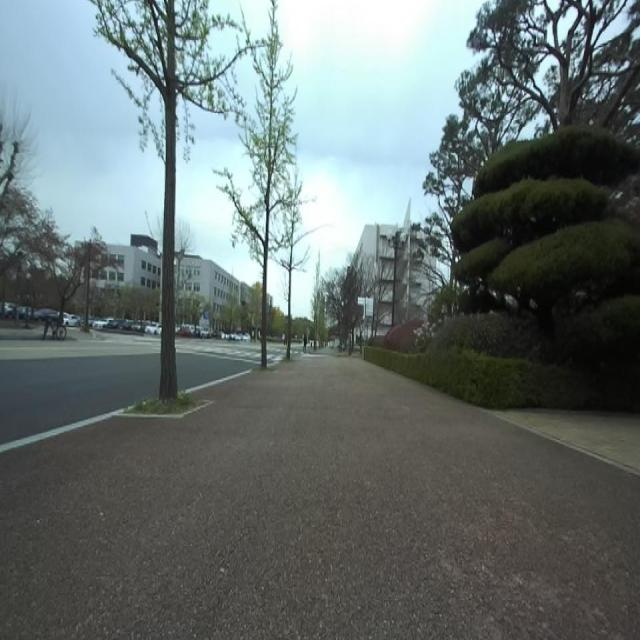sidewalk: (0, 355, 640, 639), (0, 410, 124, 452)
